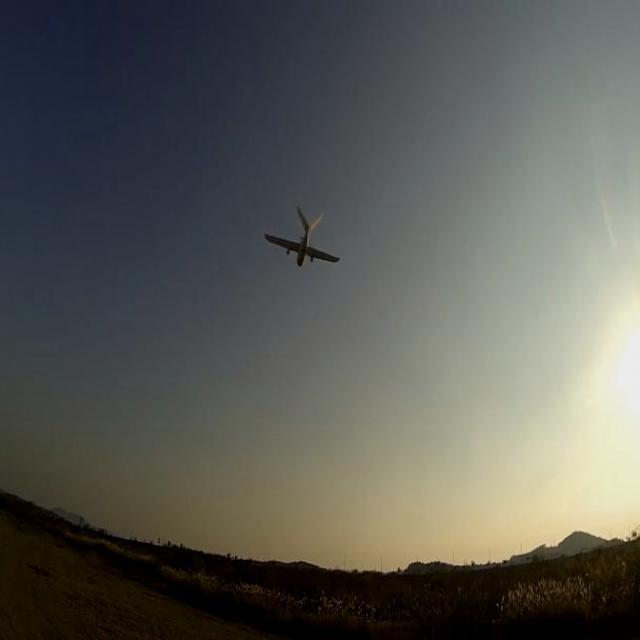iha: (290, 227, 312, 246)
